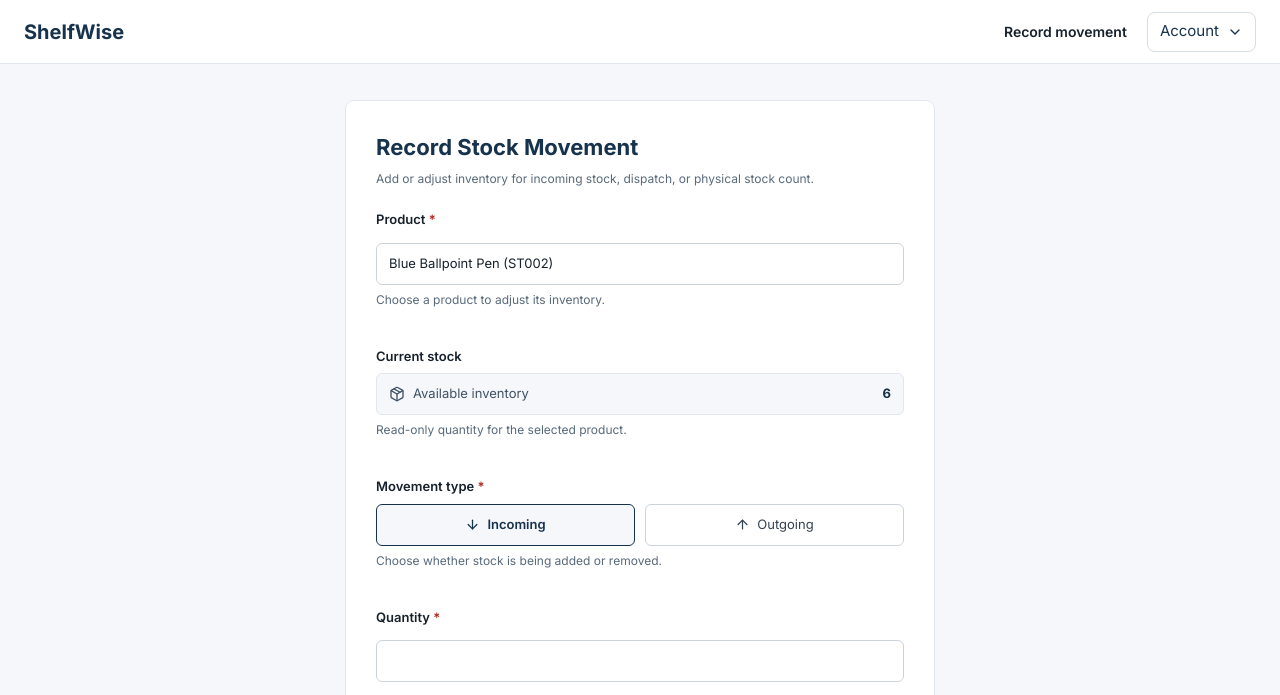
RecordMovementPage › rejects outgoing stock above the selected product quantity
Click the button "Outgoing": (774, 524) [645, 504, 904, 546]
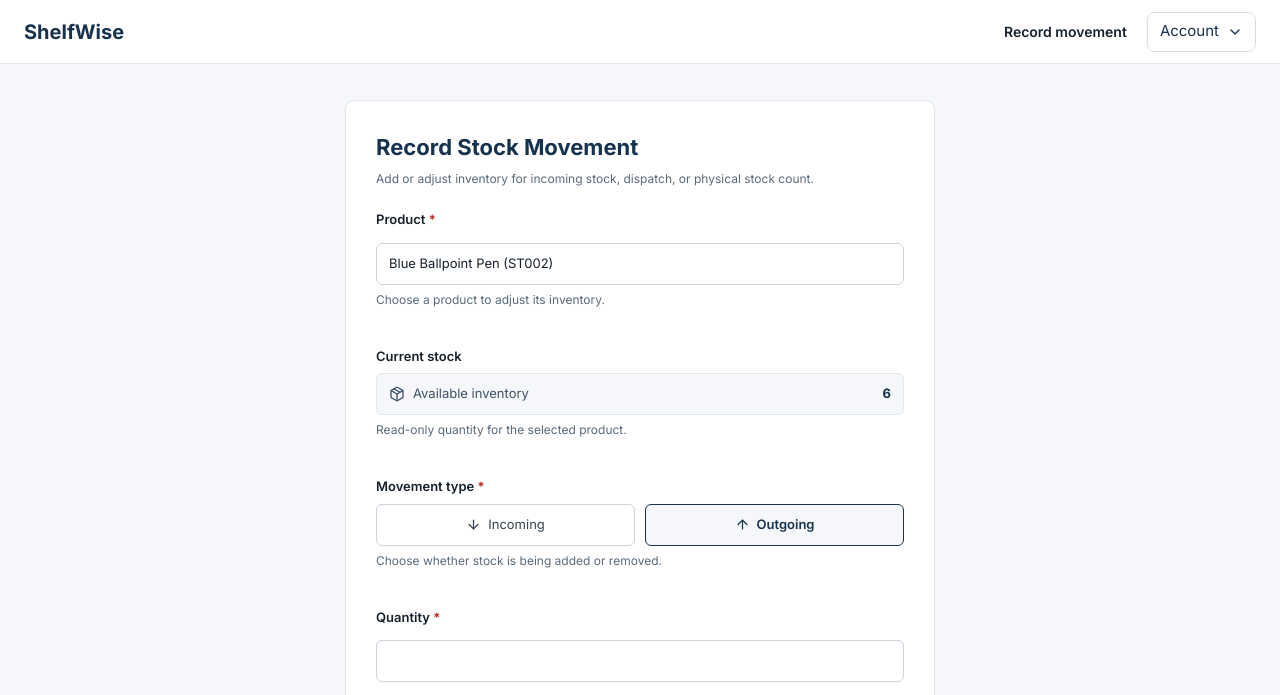
In the number field labelled "Quantity *": (640, 661) [376, 640, 904, 682], type "7"
(page scrolled)
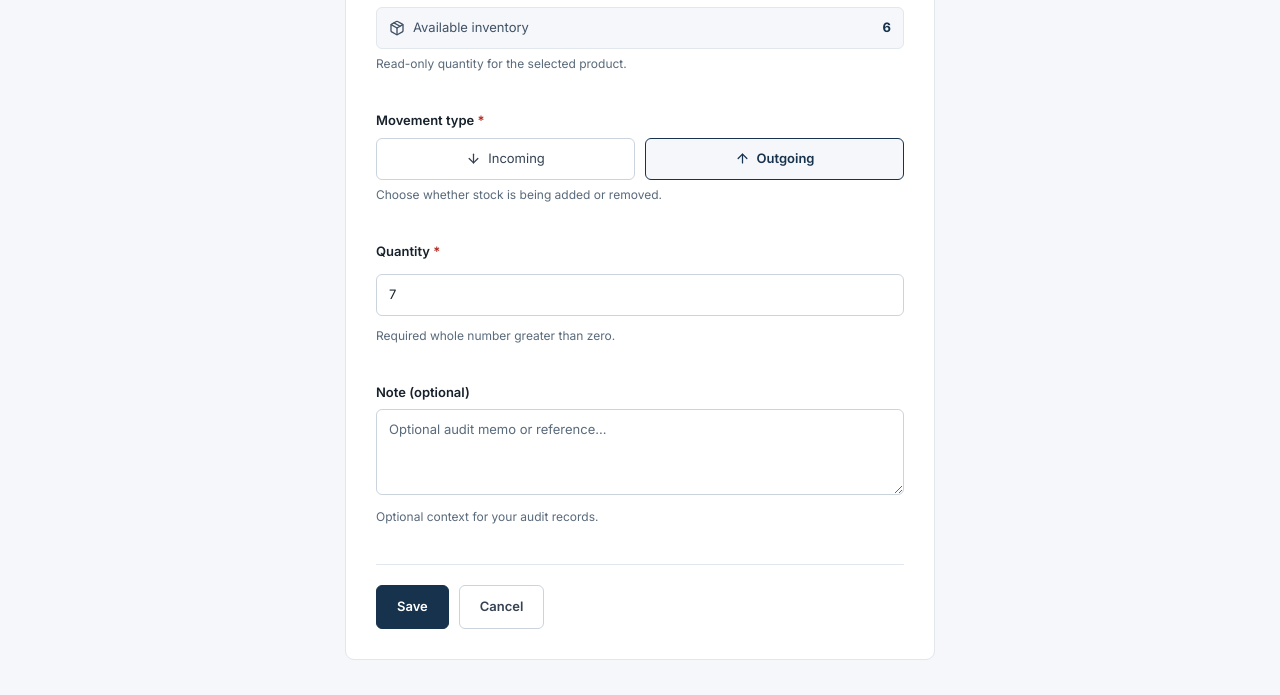
Click the button "Save": (412, 607) [376, 585, 449, 629]
(page scrolled)
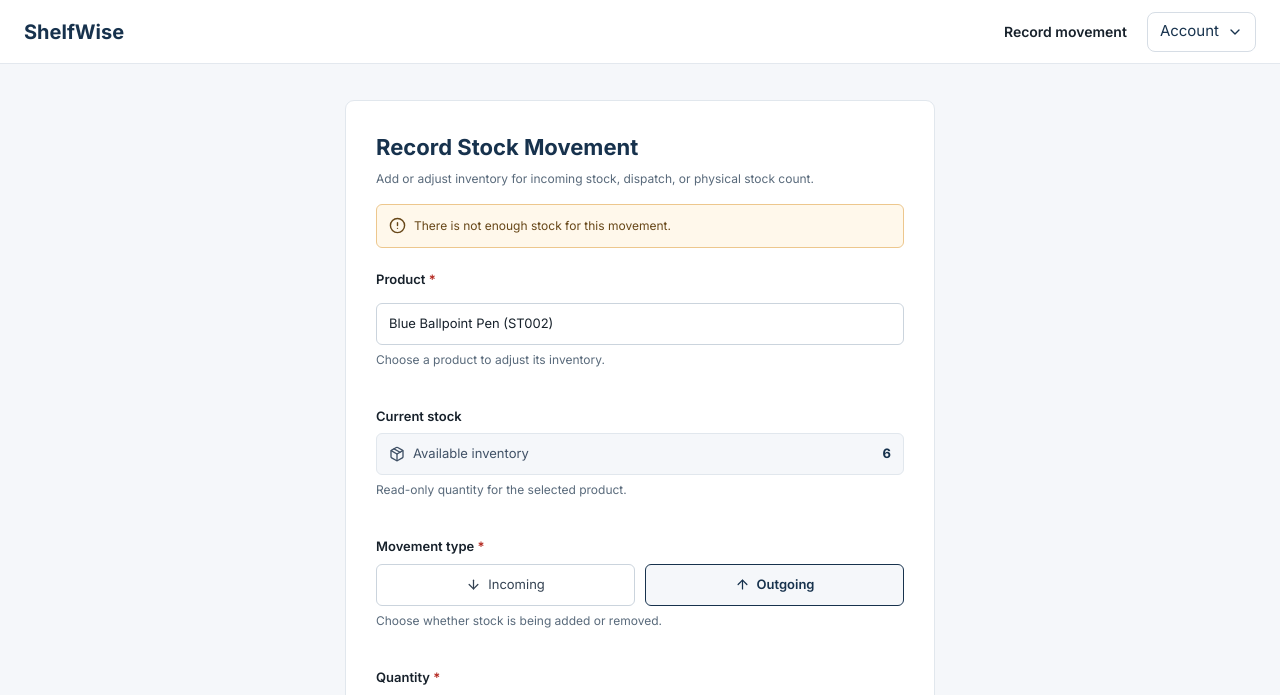
Expected: the message reads "There is not enough stock for this movement.", [414, 218, 671, 233]
